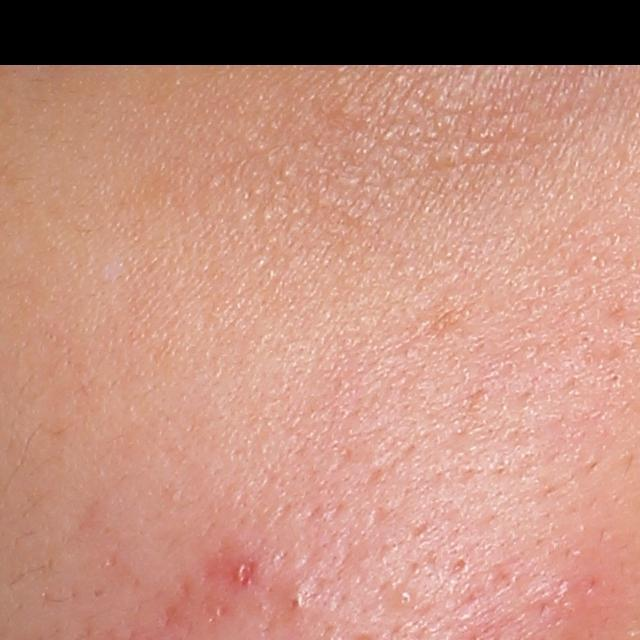comedo: (392, 584, 417, 610)
papule: (227, 555, 260, 596)
